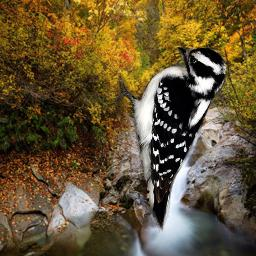Woodpecker: (115, 47, 227, 235)
